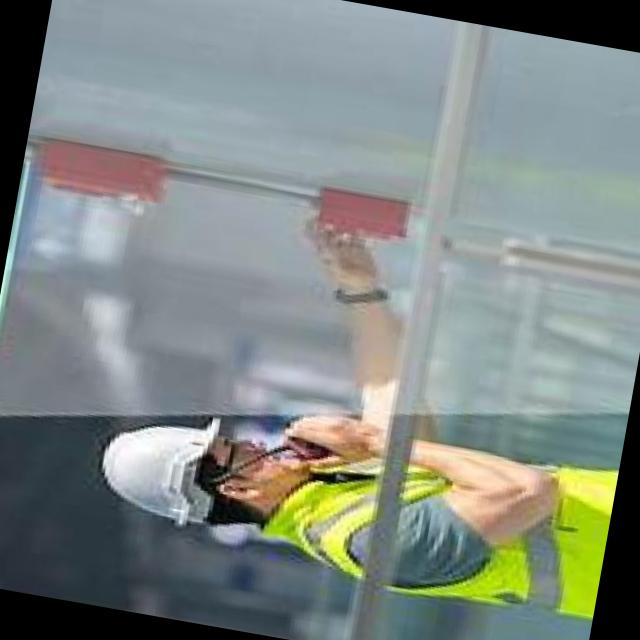not-gloved: (279, 208, 402, 304), (276, 398, 390, 482)
